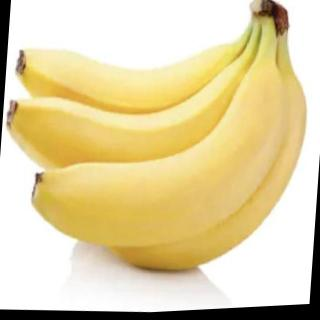banana: (23, 45, 292, 265), (79, 48, 311, 285), (1, 36, 265, 200), (9, 24, 251, 144)
